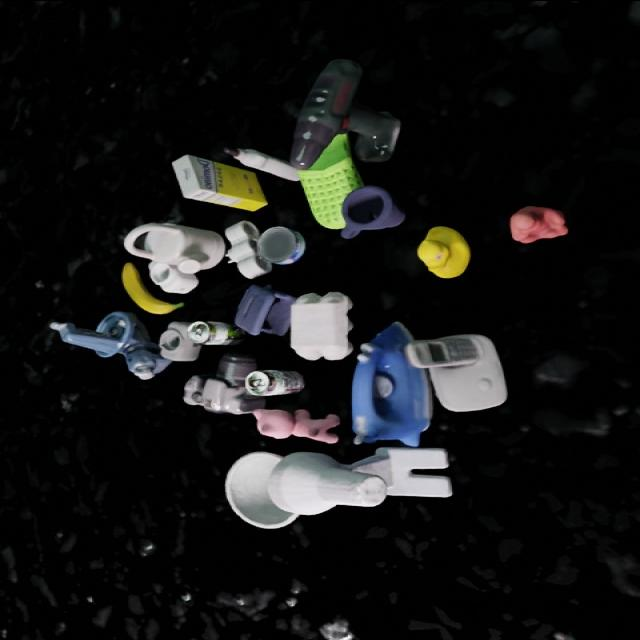Other Objects: (404, 333, 505, 410), (299, 132, 363, 227), (172, 154, 267, 209), (291, 291, 352, 358), (341, 185, 404, 237), (183, 375, 265, 412), (253, 408, 339, 442), (417, 225, 471, 277), (225, 219, 272, 277), (509, 205, 568, 242), (225, 148, 297, 178), (257, 225, 304, 263), (245, 369, 304, 394), (187, 320, 241, 344)
